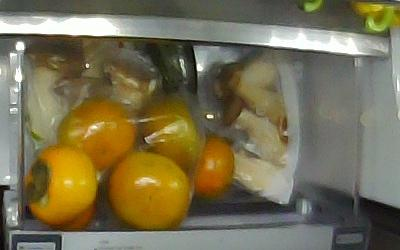persimmon: (109, 152, 188, 227), (26, 146, 97, 225), (188, 136, 236, 200)
persimmon_vinyl: (58, 100, 135, 171), (143, 97, 202, 166)
